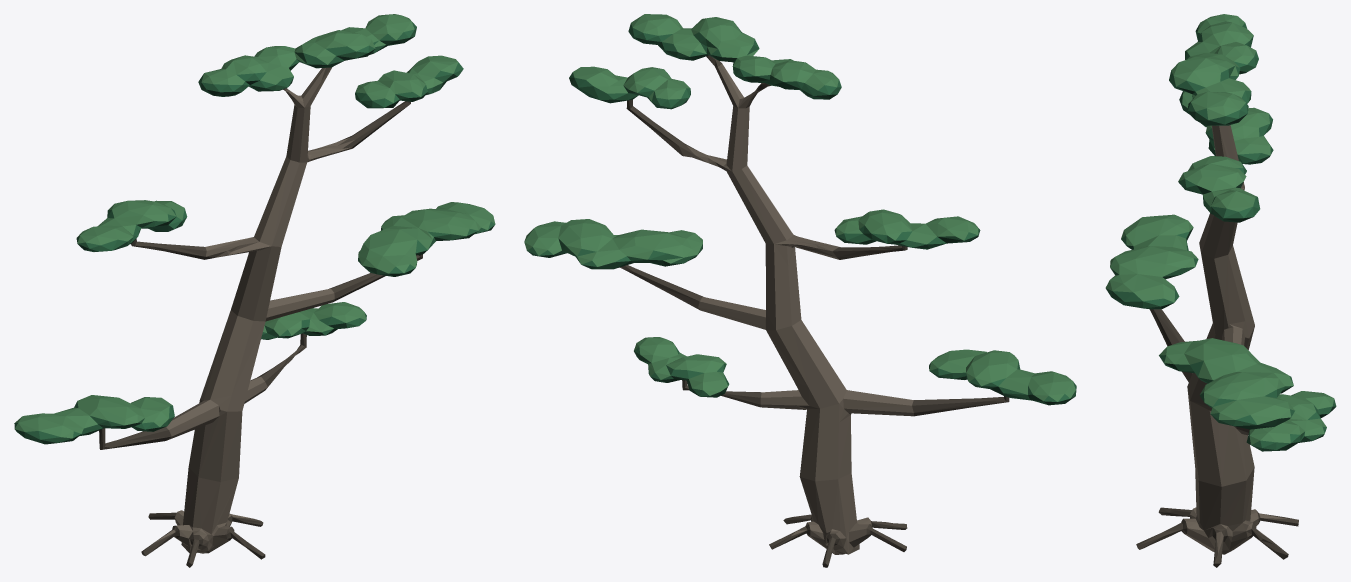
Rendered from ancient-pine-1428-lod1.glb.
3 views of the same model, side by side, from view 1: azimuth 30°, elevation 25°; view 2: azimuth 150°, elevation 25°; view 3: azimuth 270°, elevation 25° (orthographic). The views are drawn at different scales.
Parts seen in each view (by area): view 1: n8.005, n12.005, n11.005, n9.005, n10.005; view 2: n8.005, n12.005, n11.005, n9.005, n10.005; view 3: n12.005, n8.005, n11.005, n9.005, n10.005.
Part boxes in pixels (<box>): n8.005: <box>156,67,354,554</box>; n12.005: <box>15,14,495,438</box>; n11.005: <box>14,22,494,442</box>; n9.005: <box>99,67,422,567</box>; n10.005: <box>15,37,494,444</box>; n8.005: <box>679,63,913,554</box>; n12.005: <box>524,14,1075,401</box>; n11.005: <box>527,23,1076,401</box>; n9.005: <box>620,55,1009,567</box>; n10.005: <box>527,32,1074,405</box>; n12.005: <box>1105,14,1333,444</box>; n8.005: <box>1169,125,1286,554</box>; n11.005: <box>1106,23,1336,449</box>; n9.005: <box>1136,309,1298,567</box>; n10.005: <box>1112,71,1335,451</box>.
Bounding box in the file's own units: 5.88 × 5.44 × 2.02.
